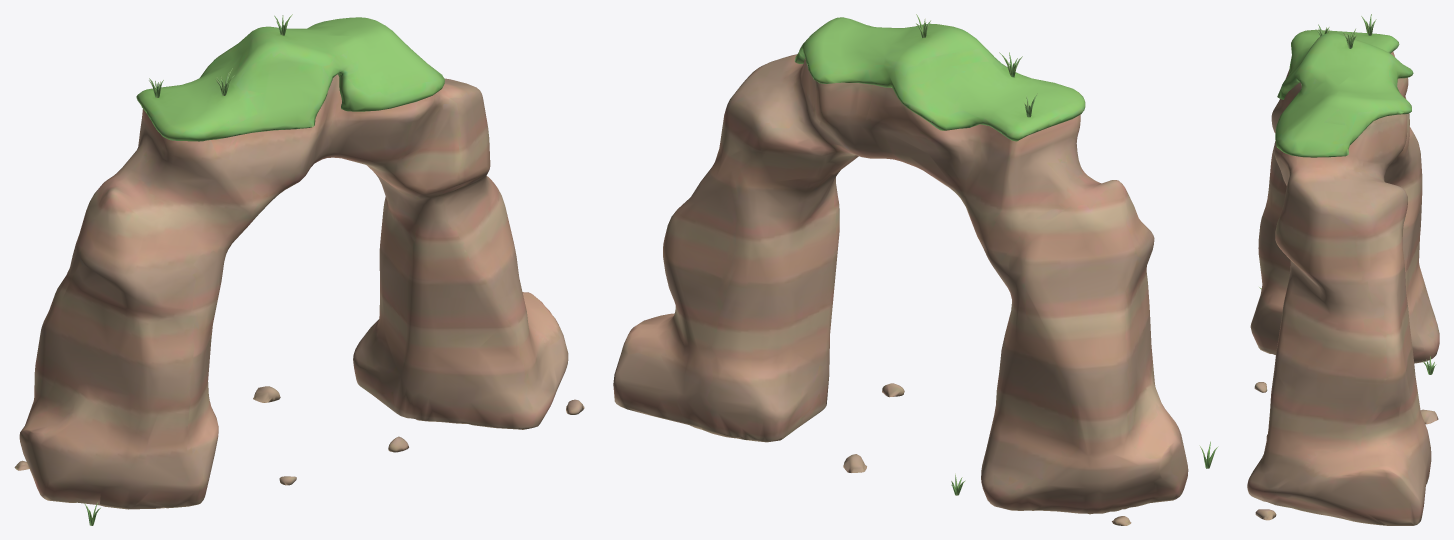
The model's file is rockarch.glb.
3 renders of one model, left to right at view 1: azimuth 30°, elevation 25°; view 2: azimuth 150°, elevation 25°; view 3: azimuth 270°, elevation 25°, orthographic. The views are drawn at different scales.
Visible parts, largest first — view 1: rock-arch_body; view 2: rock-arch_body; view 3: rock-arch_body.
Boxes of the visible parts, x1,y1,x2,y2 form: rock-arch_body: [14, 14, 584, 525]; rock-arch_body: [613, 14, 1218, 525]; rock-arch_body: [1247, 14, 1439, 525].
Bounding box in the file's own units: 6.05 × 4.69 × 2.16.
Materials: 1 (1 with a texture image).
